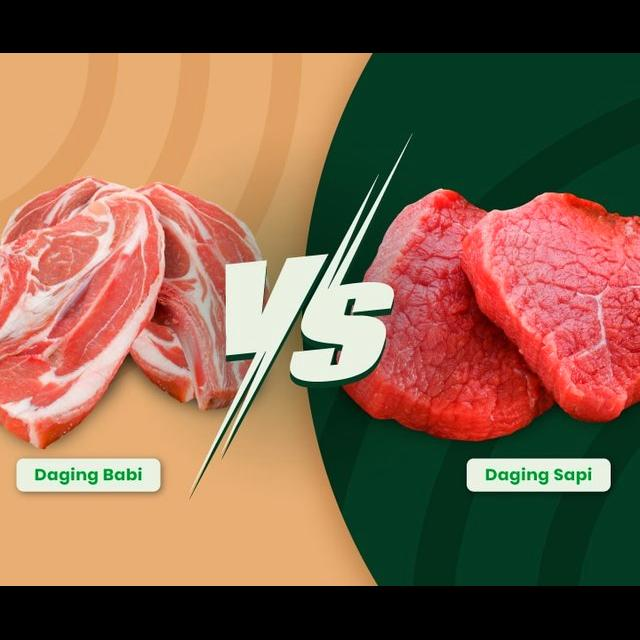beef: (349, 186, 550, 450), (470, 192, 640, 419)
